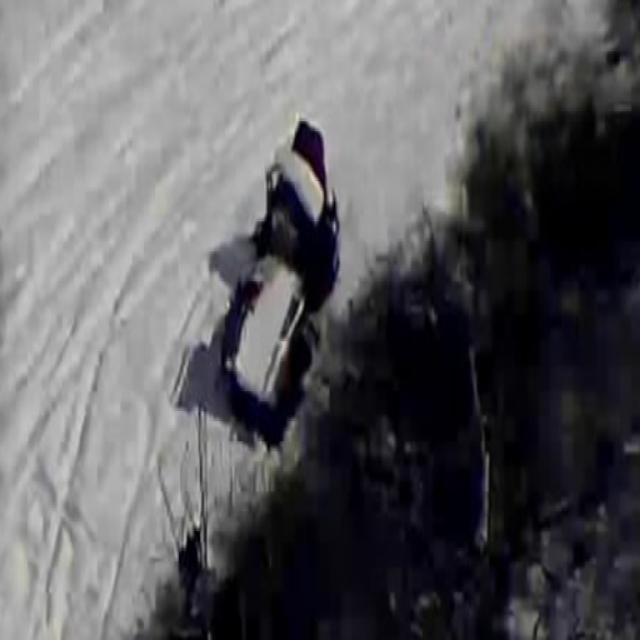TRUCK: (221, 116, 339, 427)
